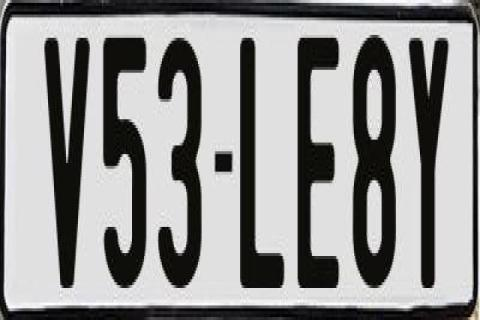0: (154, 32, 204, 288), (350, 27, 394, 286), (104, 38, 148, 294)
E: (296, 32, 336, 294)
L: (237, 38, 287, 291)
V: (42, 32, 92, 294)
Y: (407, 32, 453, 294)
